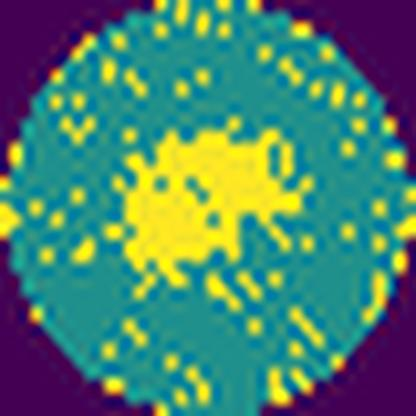Center: (122, 127, 305, 302)
